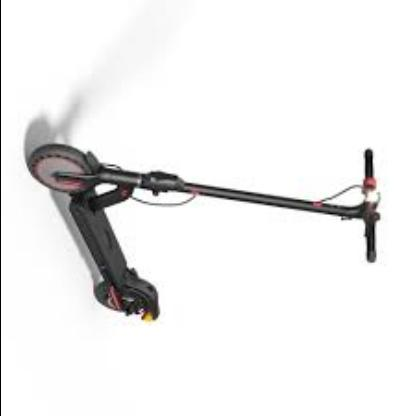bike: (26, 144, 383, 325)
